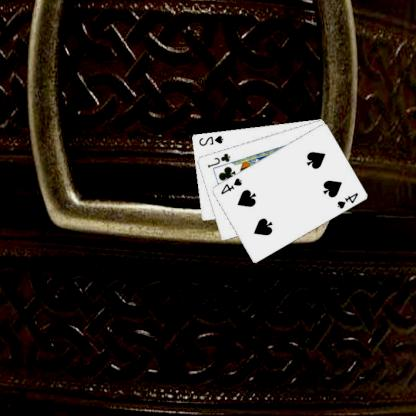2S: (198, 133, 226, 147)
4S: (220, 175, 244, 196), (336, 190, 361, 210)
JC: (206, 151, 233, 168)
